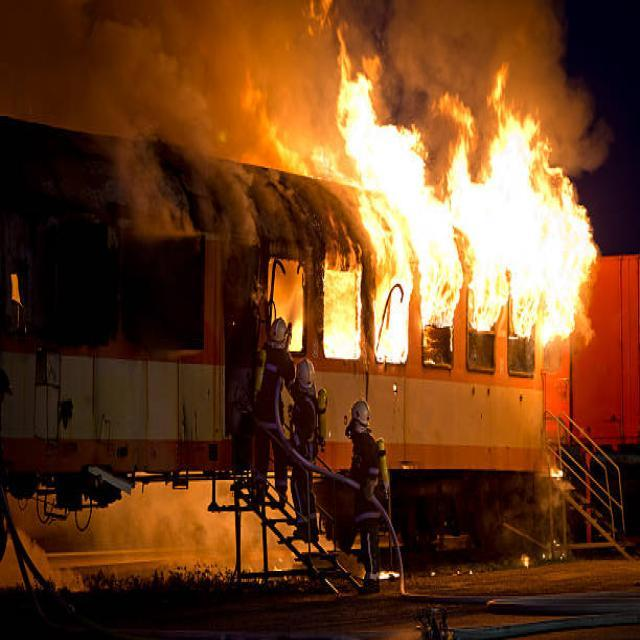Fire: (342, 86, 599, 342), (256, 105, 372, 187), (324, 252, 370, 362)
Smoke: (0, 6, 342, 230), (330, 0, 618, 178)
